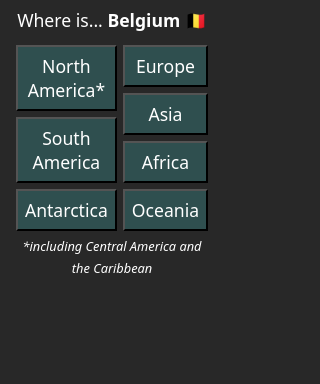
Test: Question › should update the display and inform its parent when the answer is incorrect
The width and height of the screenshot is (320, 384).
Click the button "Asia" at [165, 114], box x1=123 y1=93 x2=208 y2=135
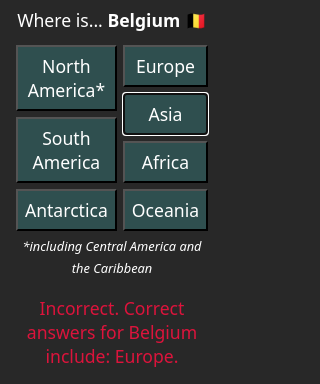
Expected: the text "Incorrect. Correct answers for Belgium include: Europe." is shown, x1=27 y1=296 x2=197 y2=368
